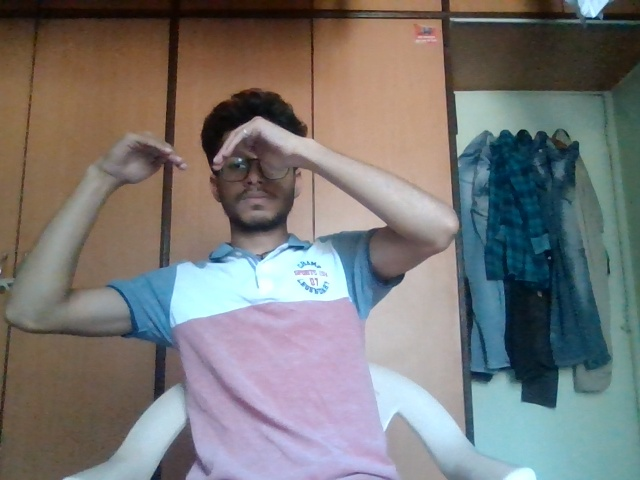we: (76, 116, 331, 215)
